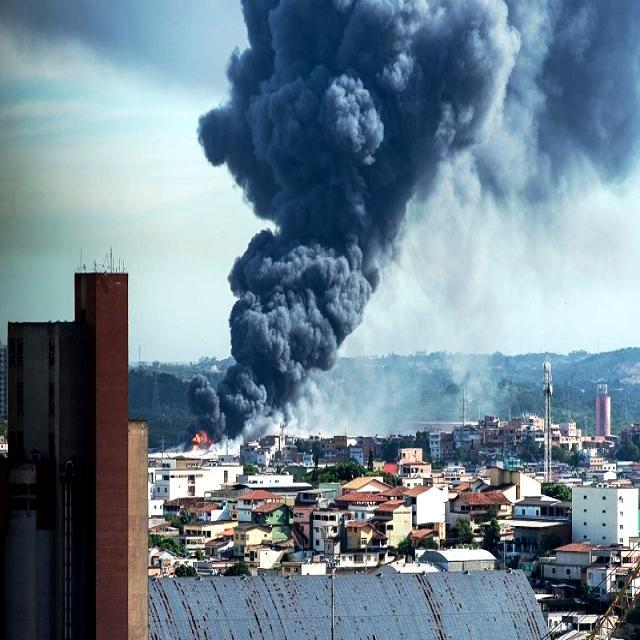Fire: (187, 417, 210, 450)
Smoke: (192, 0, 418, 407), (388, 0, 640, 230)
